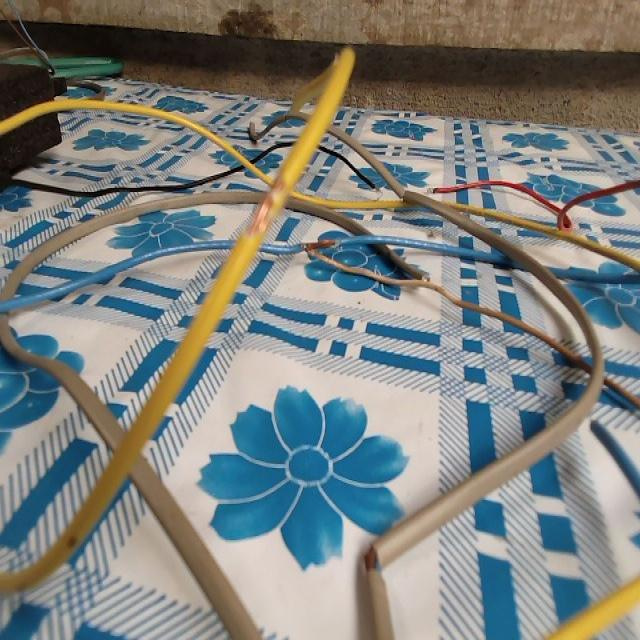-: (359, 540, 387, 575), (300, 235, 342, 253)
